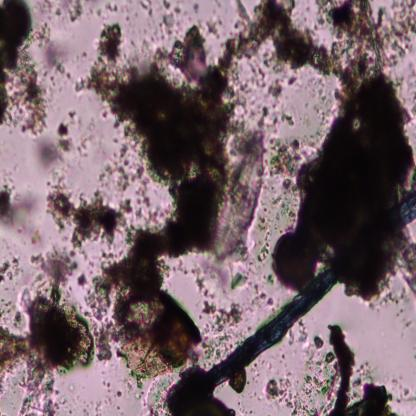Background material: (91, 0, 313, 374), (289, 76, 415, 295), (0, 246, 98, 416), (290, 320, 395, 416), (309, 1, 416, 74), (0, 0, 56, 139), (48, 171, 134, 244), (104, 148, 156, 226), (266, 142, 313, 226), (144, 373, 237, 415), (32, 108, 79, 172), (199, 298, 248, 354), (0, 183, 44, 243), (143, 2, 185, 46), (38, 29, 71, 83), (98, 22, 129, 60), (193, 262, 226, 296), (223, 257, 255, 289), (265, 377, 295, 411), (79, 124, 99, 160), (97, 379, 126, 403), (66, 0, 88, 27), (75, 39, 94, 68), (42, 3, 64, 26)
Cotton: (193, 189, 416, 394)
Diatom: (213, 131, 268, 260), (274, 233, 317, 287), (179, 22, 208, 88)
